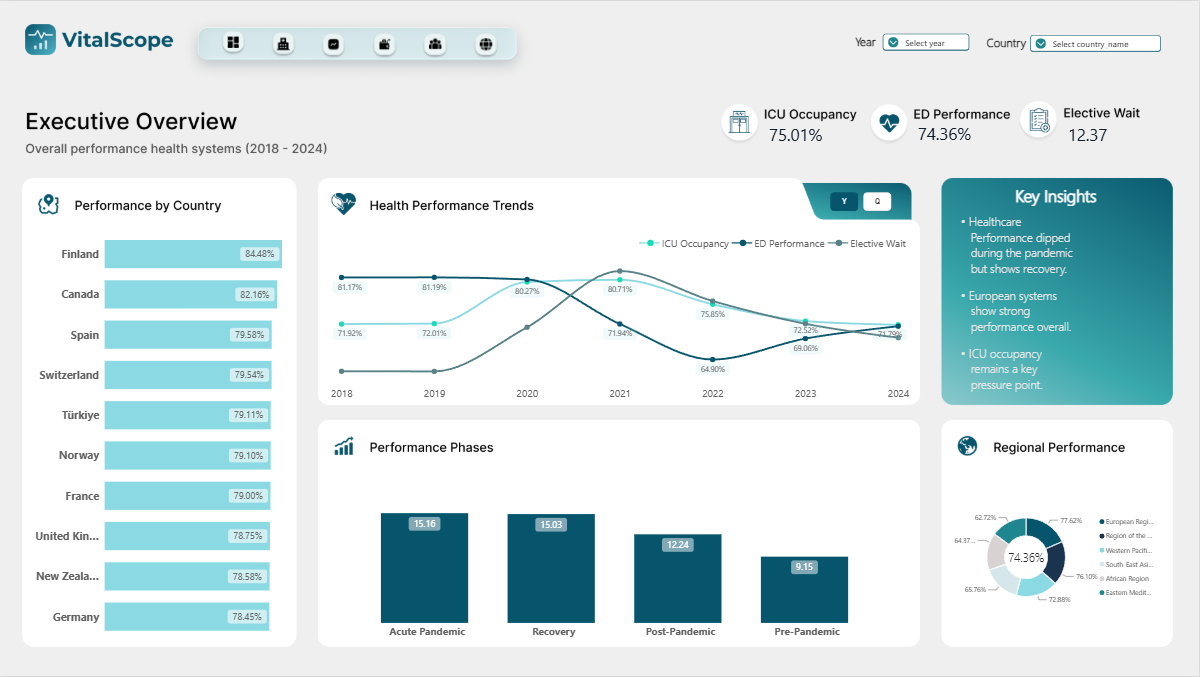

The dashboard page shown, as its layout file describes it:
{"tool":"powerbi","page":{"name":"Executive Overview","canvas":[1920,1080],"ordinal":0},"visuals":[{"type":"cardVisual","fields":{"Data":["_Measures.Average ICU Occupancy"]},"box":[1216,194,148,40],"z":0},{"type":"cardVisual","fields":{"Data":["_Measures.Average ED Performance"]},"box":[1453,188,142,48],"z":1000},{"type":"cardVisual","fields":{"Data":["_Measures.Average Elective Wait"]},"box":[1694,192,138,42],"z":2000},{"type":"lineChart","fields":{"Category":["dim_date.year"],"Y":["_Measures.ICU Occupancy","_Measures.ED Performance"],"Y2":["_Measures.Elective Wait"]},"box":[513.8,356.2,958.8,303.8],"z":3000},{"type":"clusteredBarChart","fields":{"Category":["dim_country.country_name"],"Y":["_Measures.ED Performance"]},"box":[27.8,355.6,440.7,668.5],"z":4000},{"type":"donutChart","fields":{"Category":["dim_country.who_region"],"Y":["_Measures.ED Performance"]},"box":[1511.4,702.9,362.9,377.1],"z":5000},{"type":"clusteredColumnChart","fields":{"Category":["dim_date.pandemic_phase"],"Y":["_Measures.Elective Wait"]},"box":[513.3,740,950,301.7],"z":6000},{"type":"textbox","box":[1523.2,321.4,280.4,385.7],"z":7000},{"type":"advancedSlicerVisual","fields":{"Values":["trends.trends"]},"box":[1330,306,98,30],"z":8000},{"type":"listSlicer","fields":{"Values":["dim_country.country_name"]},"box":[1634.7,40.8,240.8,71],"z":9000},{"type":"textbox","box":[1580,53.3,70,25],"z":10000},{"type":"textbox","box":[1370.2,52.6,57.9,38.6],"z":11000},{"type":"listSlicer","fields":{"Values":["dim_date.year"]},"box":[1398.2,38.6,170.2,70.2],"z":12000},{"type":"actionButton","box":[358.8,48.9,33.8,33.1],"z":13000},{"type":"actionButton","box":[438,50,34,34],"z":14000},{"type":"actionButton","box":[518.9,51,34,34],"z":15000},{"type":"actionButton","box":[600.6,51,34,34],"z":16000},{"type":"actionButton","box":[680.5,51,35.7,34],"z":17000},{"type":"actionButton","box":[762.2,51,34,34],"z":18000},{"type":"textbox","box":[1626.8,291.1,189.3,114.3],"z":19000}]}

Visuals, with their boxes on the page's 1920x1080 design canvas (x1, y1, x2, y2). These are canvas units, not pixel positions in the 1200x677 screenshot, which may show the page scaled, cropped or inside an application window:
cardVisual - _Measures.Average ICU Occupancy: select_region(1216, 194, 1364, 234)
cardVisual - _Measures.Average ED Performance: select_region(1453, 188, 1595, 236)
cardVisual - _Measures.Average Elective Wait: select_region(1694, 192, 1832, 234)
lineChart - dim_date.year x _Measures.ICU Occupancy: select_region(514, 356, 1473, 660)
clusteredBarChart - dim_country.country_name x _Measures.ED Performance: select_region(28, 356, 468, 1024)
donutChart - dim_country.who_region x _Measures.ED Performance: select_region(1511, 703, 1874, 1080)
clusteredColumnChart - dim_date.pandemic_phase x _Measures.Elective Wait: select_region(513, 740, 1463, 1042)
textbox: select_region(1523, 321, 1804, 707)
advancedSlicerVisual - trends.trends: select_region(1330, 306, 1428, 336)
listSlicer - dim_country.country_name: select_region(1635, 41, 1876, 112)
textbox: select_region(1580, 53, 1650, 78)
textbox: select_region(1370, 53, 1428, 91)
listSlicer - dim_date.year: select_region(1398, 39, 1568, 109)
actionButton: select_region(359, 49, 393, 82)
actionButton: select_region(438, 50, 472, 84)
actionButton: select_region(519, 51, 553, 85)
actionButton: select_region(601, 51, 635, 85)
actionButton: select_region(680, 51, 716, 85)
actionButton: select_region(762, 51, 796, 85)
textbox: select_region(1627, 291, 1816, 405)
